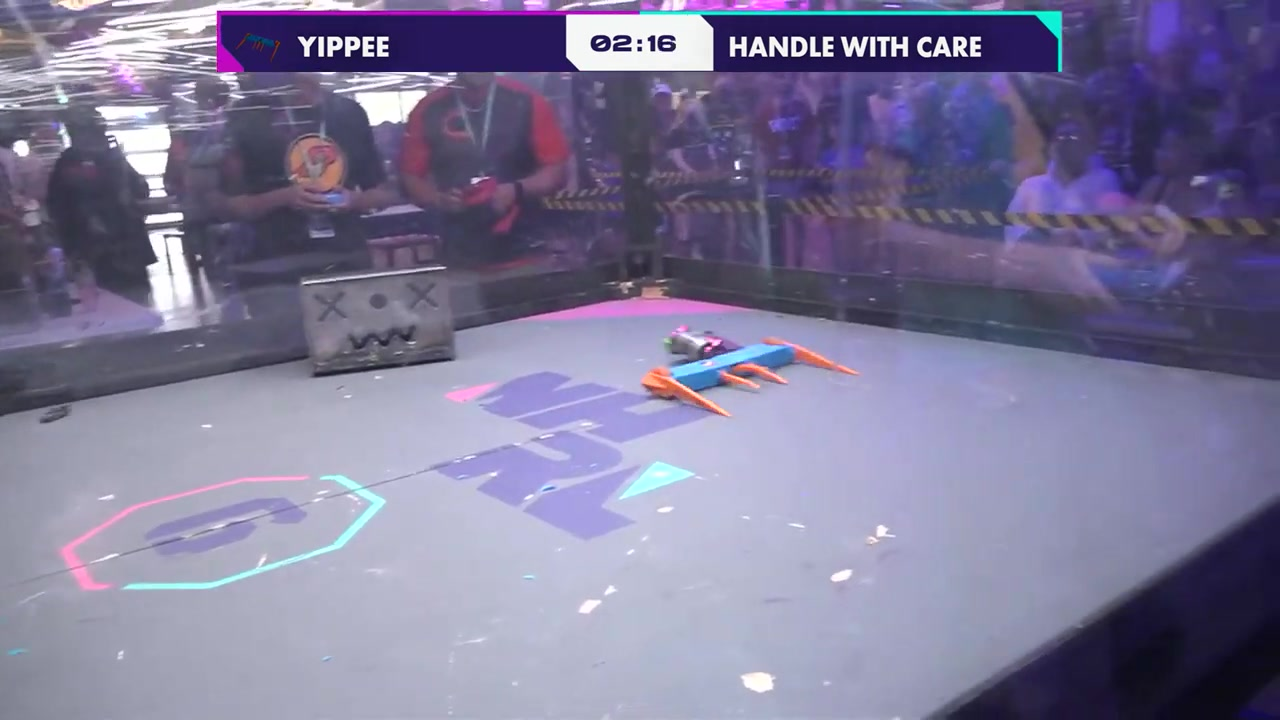combatbot: (640, 335, 859, 421), (662, 324, 750, 364)
housebot: (299, 263, 457, 378)
